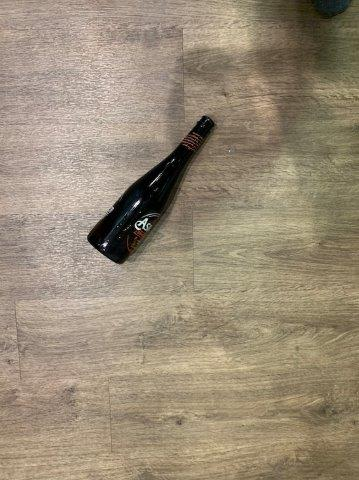botolkaca: (88, 116, 215, 264)
